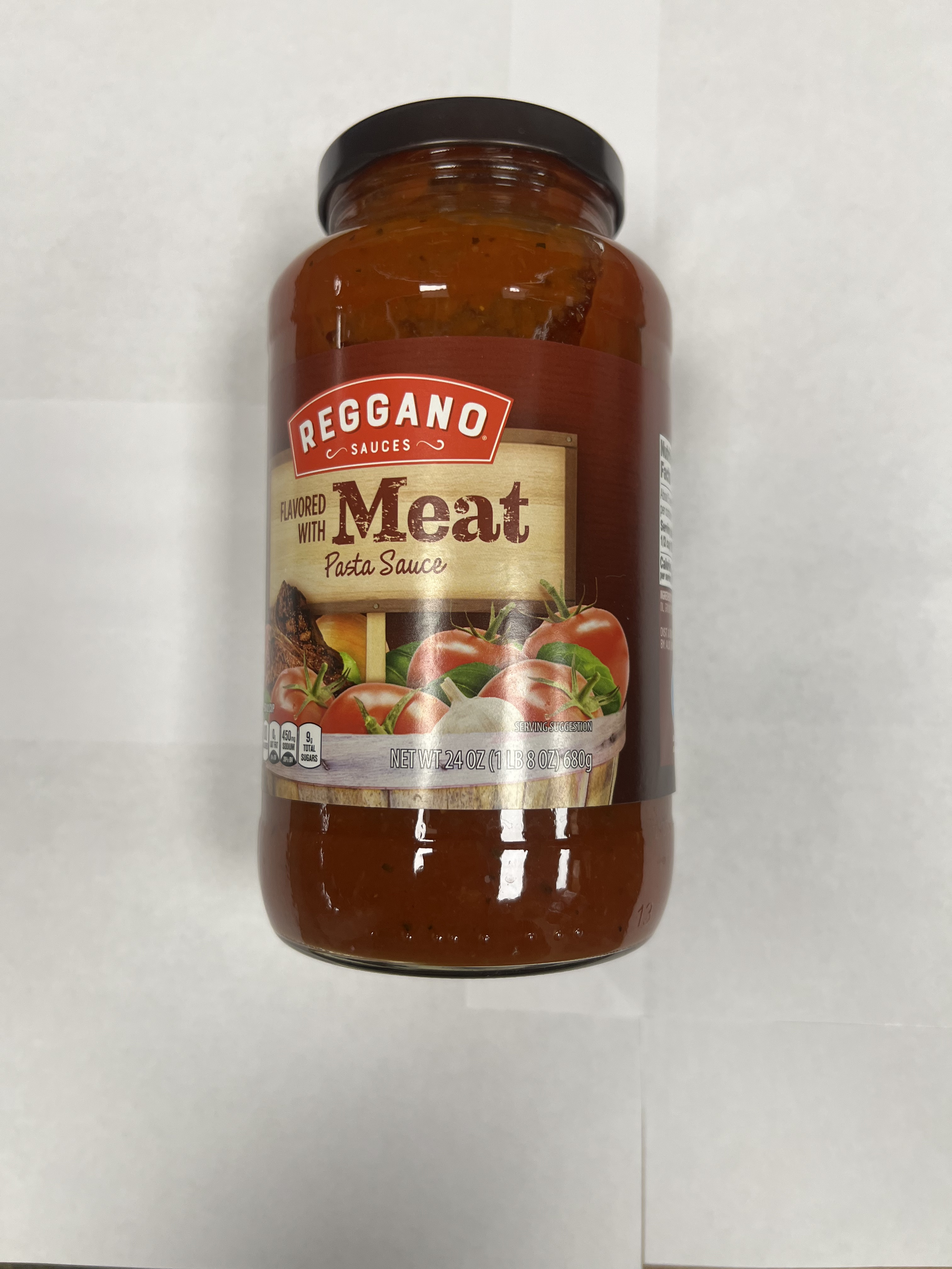packaged: (250, 89, 688, 983)
